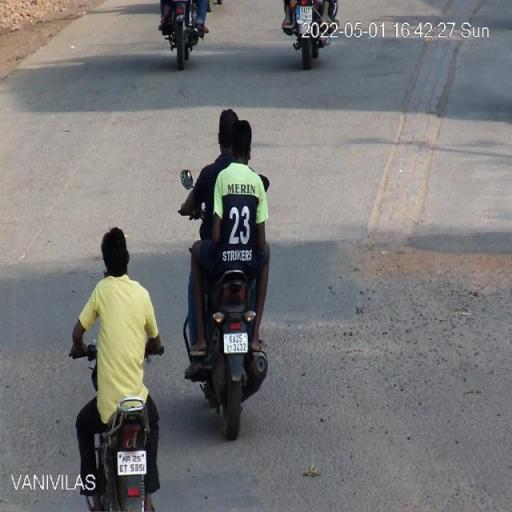numberplate: (117, 449, 147, 471)
using mobile: (100, 264, 114, 283)
